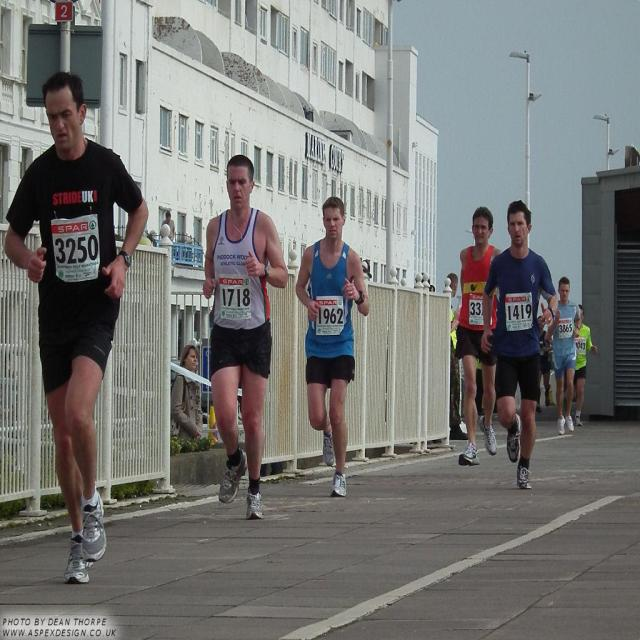Bib: (54, 236, 103, 266), (219, 288, 255, 311), (317, 306, 345, 324), (506, 302, 532, 320)
